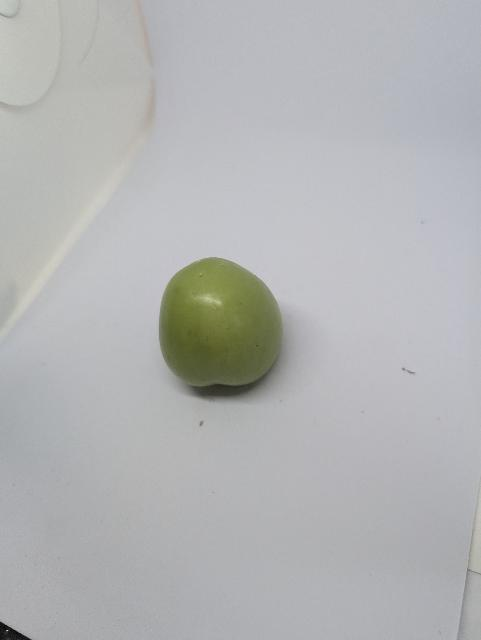green: (151, 252, 298, 397)
